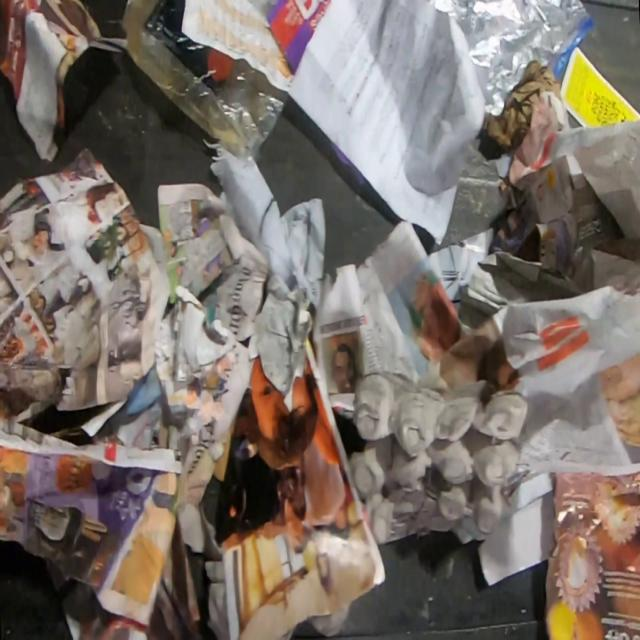cardboard: (346, 369, 529, 544)
soft_plastic: (119, 0, 290, 167), (426, 0, 596, 118)
